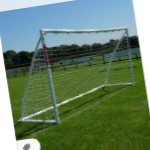goals: (18, 28, 131, 125)
